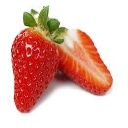strawberry: (9, 19, 59, 112), (51, 27, 113, 96)
